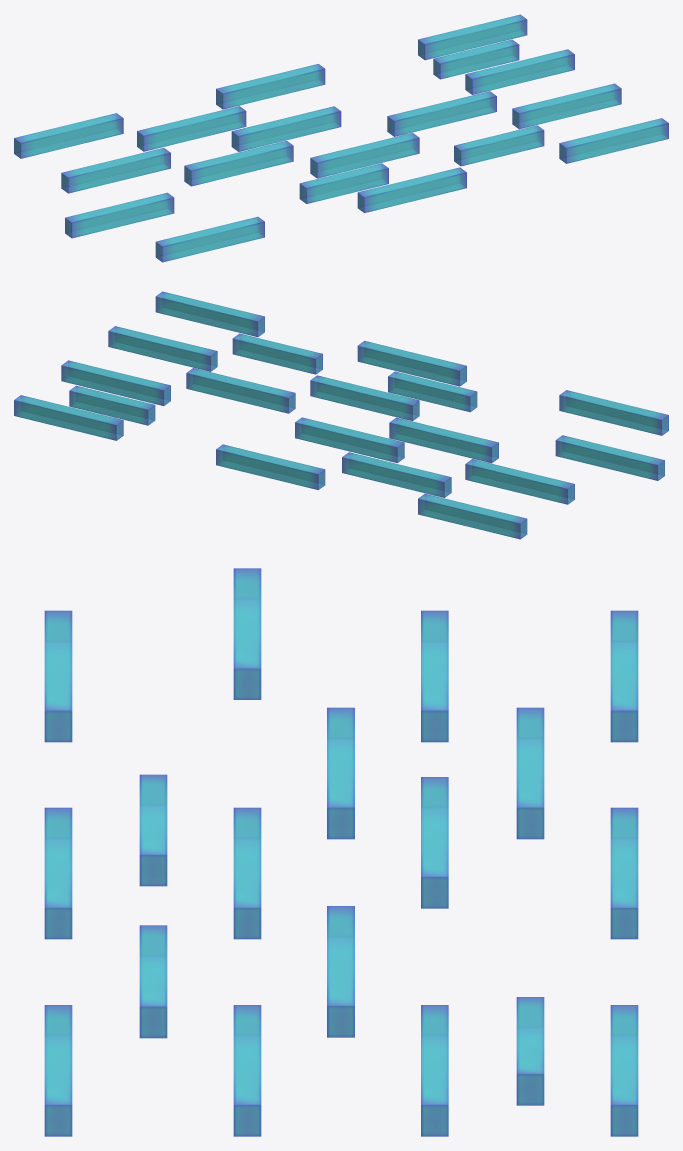
File: EC_CeilingLEDBox.FBX
3 renders of one model, top to bottom at view 1: azimuth 30°, elevation 25°; view 2: azimuth 150°, elevation 25°; view 3: azimuth 270°, elevation 25°, orthographic. The views are drawn at different scales.
Visible parts, largest first — view 1: EC_CeilingLEDBox; view 2: EC_CeilingLEDBox; view 3: EC_CeilingLEDBox.
Boxes of the visible parts, left/top/right/bottom form: EC_CeilingLEDBox: left=14, top=14, right=668, bottom=262; EC_CeilingLEDBox: left=14, top=291, right=668, bottom=539; EC_CeilingLEDBox: left=44, top=568, right=638, bottom=1136.
Bounding box in the file's own units: 12732 × 349 × 5954.
